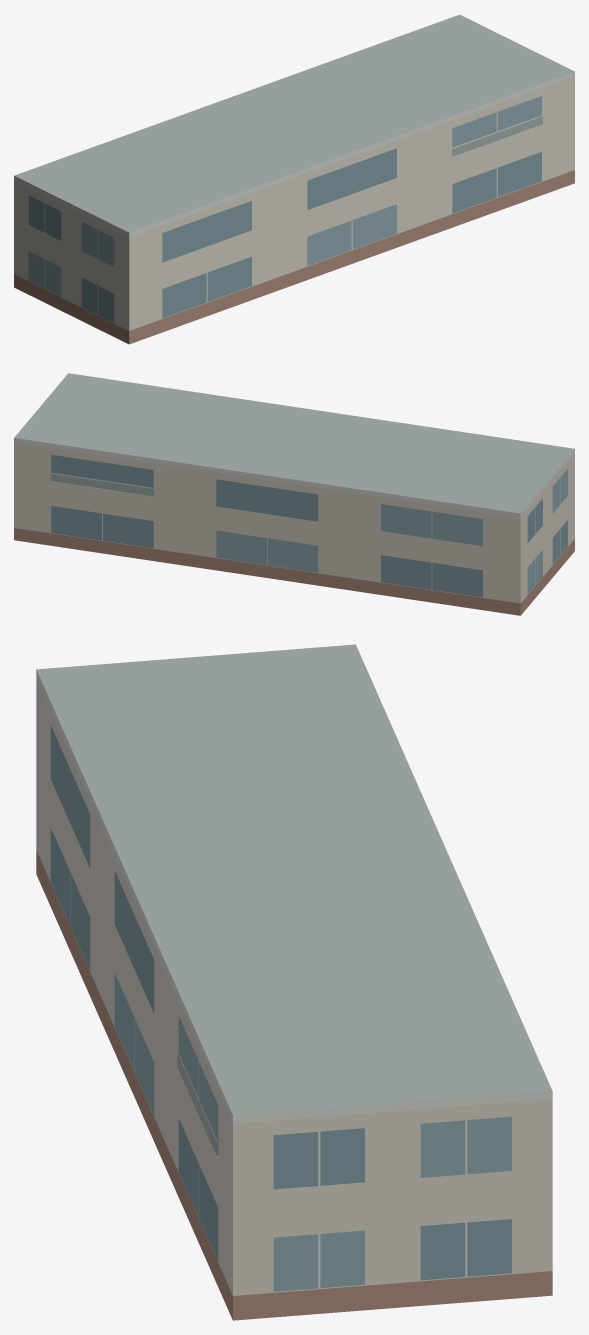
Rendered from survey-upis-32712804.glb.
3 renders of one model, top to bottom at view 1: azimuth 30°, elevation 25°; view 2: azimuth 150°, elevation 25°; view 3: azimuth 270°, elevation 25°, orthographic. The views are drawn at different scales.
Visible parts, largest first — view 1: survey-upis-32712804.tmp; view 2: survey-upis-32712804.tmp; view 3: survey-upis-32712804.tmp.
Part boxes in pixels (x1,y1,x2,y2): survey-upis-32712804.tmp: (14, 14, 574, 344); survey-upis-32712804.tmp: (14, 373, 574, 615); survey-upis-32712804.tmp: (36, 644, 552, 1320).
Size of the model in its own units: 30.12 by 6.1 by 13.94.
